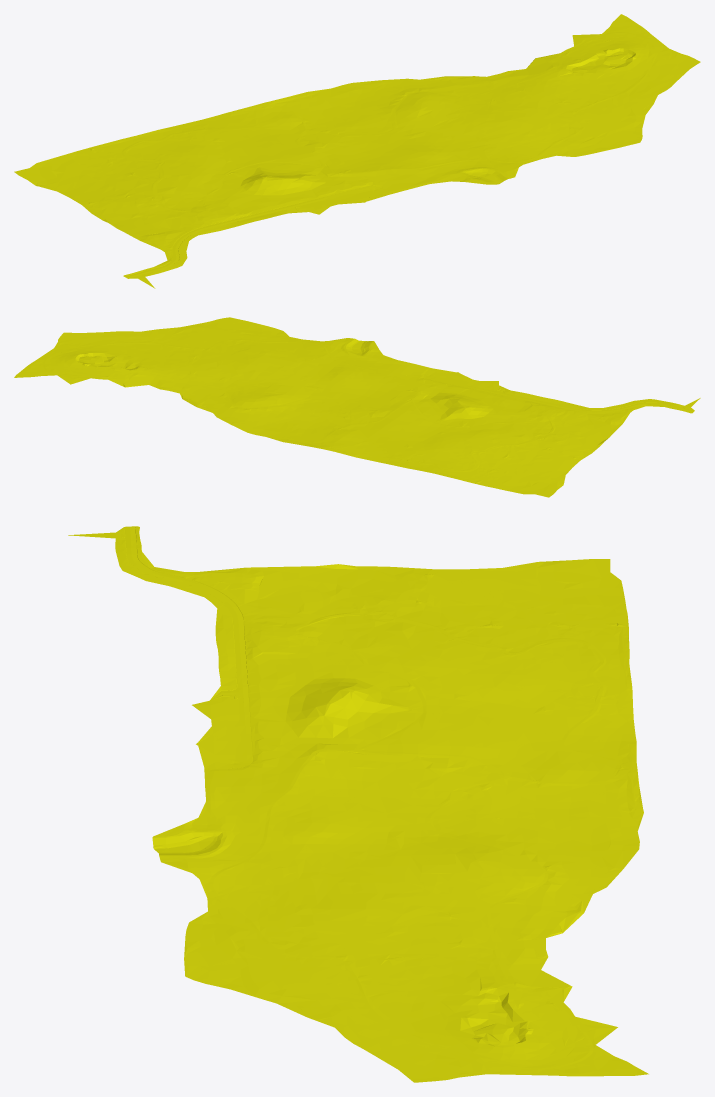
The model's file is 2fa93ac1-7a97-41b8-8cef-caee62058081.glb.
The picture shows the model from 3 angles, top to bottom: view 1: azimuth 30°, elevation 25°; view 2: azimuth 150°, elevation 25°; view 3: azimuth 270°, elevation 25°; orthographic projection. The views are drawn at different scales.
Visible parts, largest first — view 1: 544; view 2: 544; view 3: 544.
Part boxes in pixels (x1,y1,x2,y2): 544: [14, 14, 700, 288]; 544: [14, 317, 700, 497]; 544: [68, 526, 648, 1082].
Size of the model in its own units: 1157 by 17.65 by 523.
